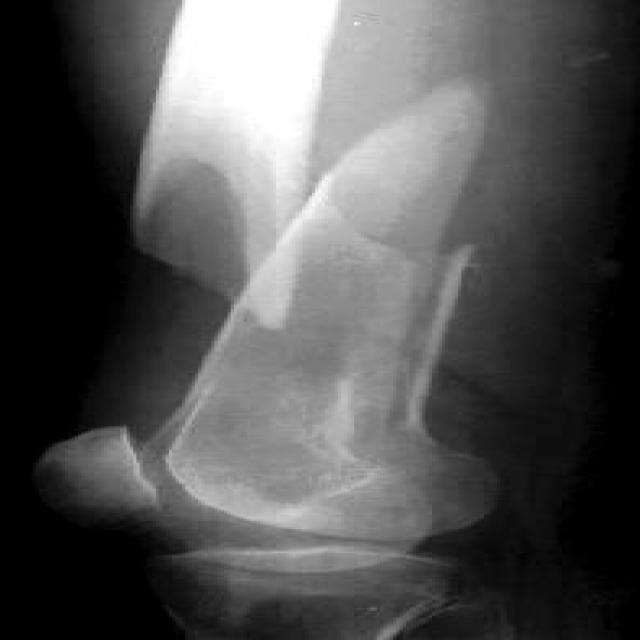Broken: (168, 94, 488, 460), (133, 7, 355, 318)
